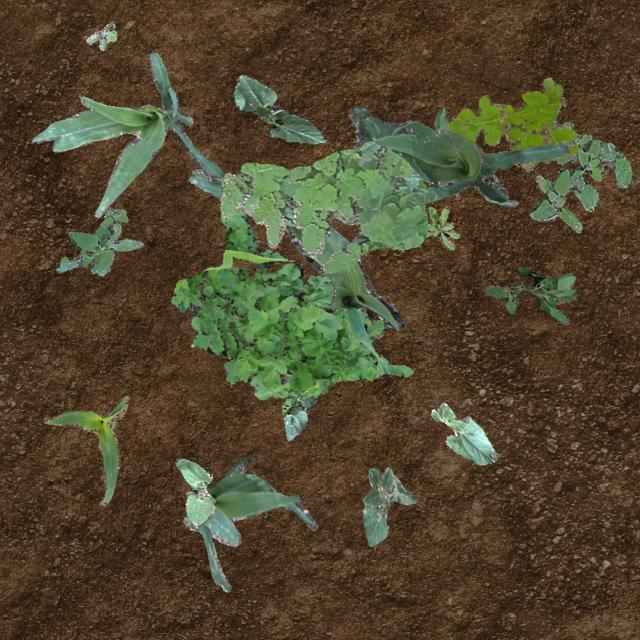crop: (188, 168, 402, 330), (31, 52, 223, 216), (348, 104, 568, 202), (182, 456, 316, 590), (43, 394, 128, 504), (432, 106, 516, 206), (232, 74, 326, 142), (362, 466, 416, 546), (430, 402, 498, 464), (174, 456, 214, 526), (280, 394, 316, 439)
weed: (170, 208, 412, 392), (218, 140, 426, 272), (446, 75, 578, 168), (524, 120, 632, 232), (253, 306, 369, 398), (54, 207, 142, 274), (484, 264, 576, 324), (424, 206, 458, 248), (86, 20, 116, 50)
